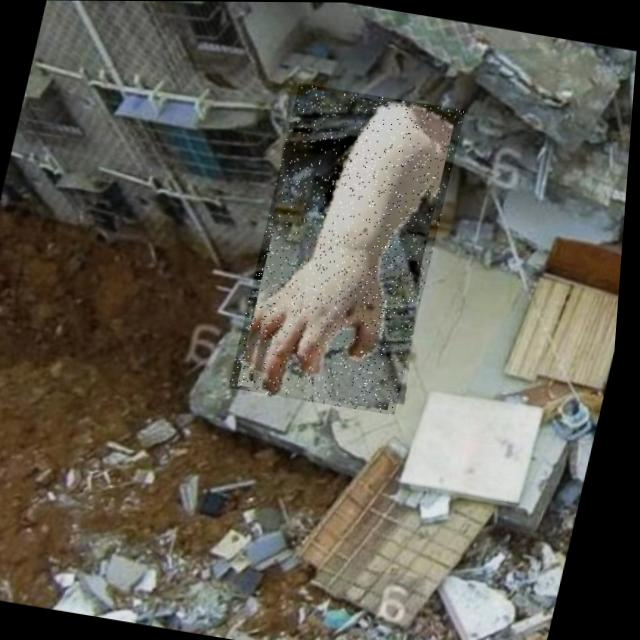Person in Rubble: (233, 82, 468, 415)
